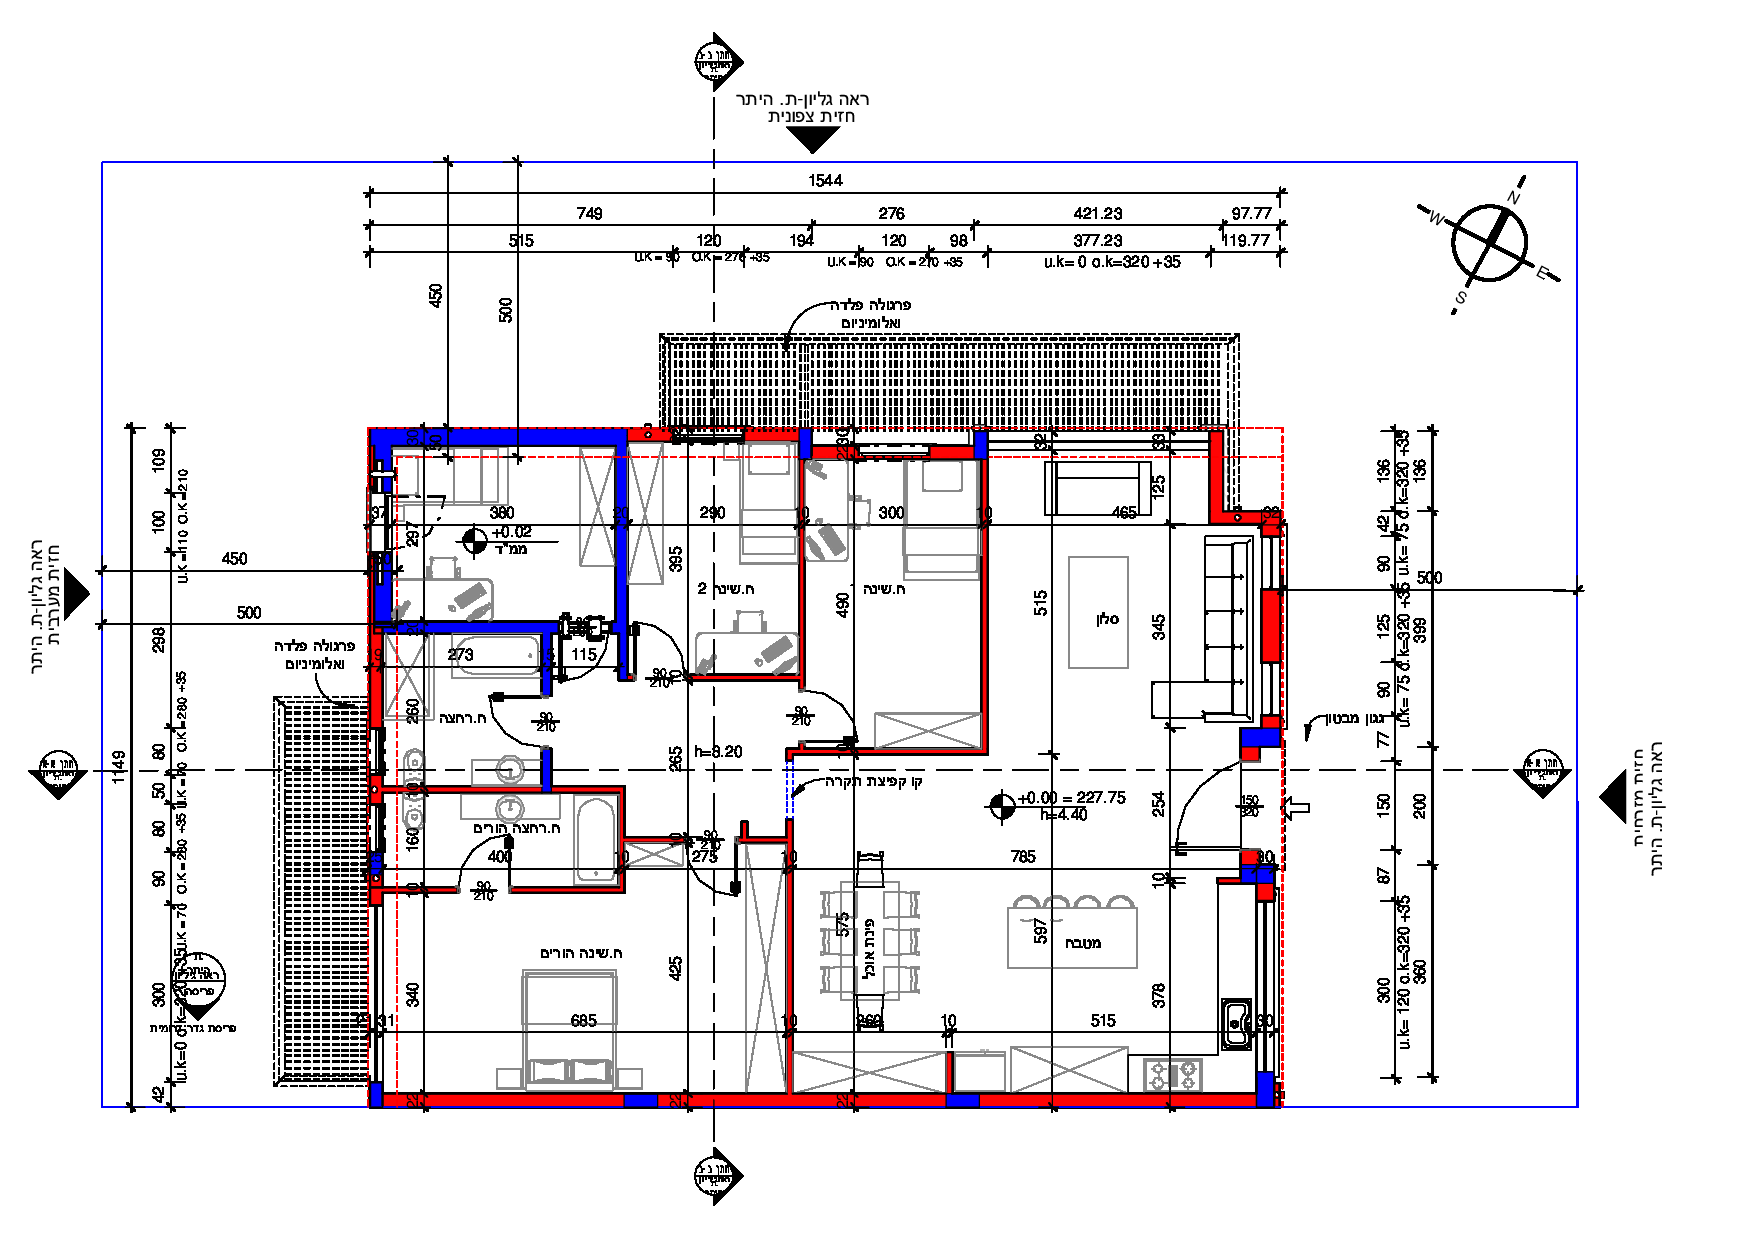window: (1261, 537, 1280, 589), (1260, 662, 1279, 713)
